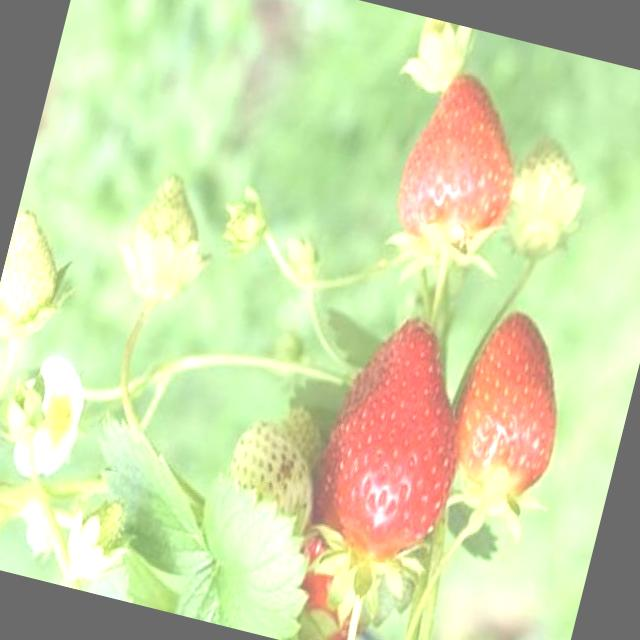Strawberry: (296, 303, 488, 571), (387, 65, 538, 256), (438, 304, 582, 504), (222, 392, 330, 524), (119, 168, 213, 306), (498, 130, 594, 259), (0, 208, 72, 341), (62, 494, 126, 584)
